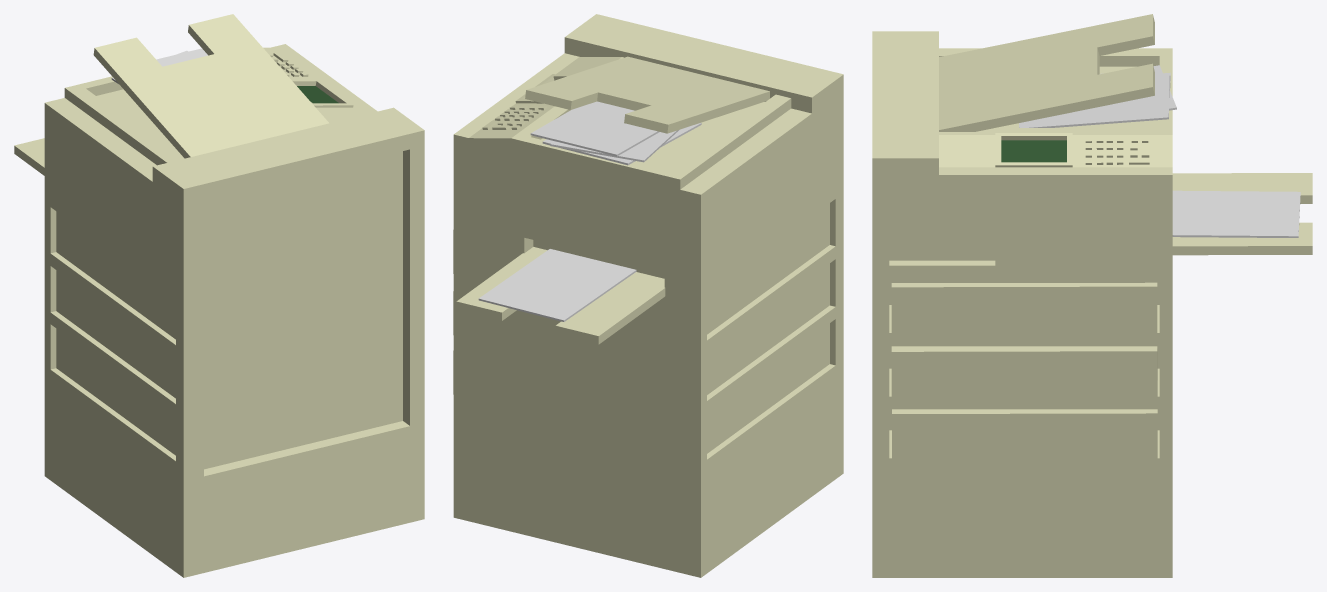
Rendered from printer.fbx.
The picture shows the model from 3 angles, left to right: view 1: azimuth 30°, elevation 25°; view 2: azimuth 150°, elevation 25°; view 3: azimuth 270°, elevation 25°; orthographic projection. The views are drawn at different scales.
Parts seen in each view (by area): view 1: printer; view 2: printer; view 3: printer.
Boxes of the visible parts, <box> form: printer: <box>14,14,424,577</box>; printer: <box>453,14,843,577</box>; printer: <box>872,14,1312,577</box>.
Size of the model in its own units: 86.55 by 142 by 123.
